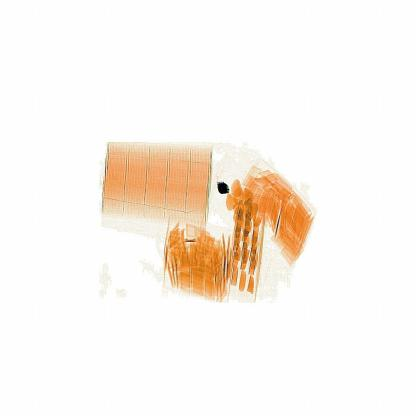scissors: (215, 168, 246, 208)
